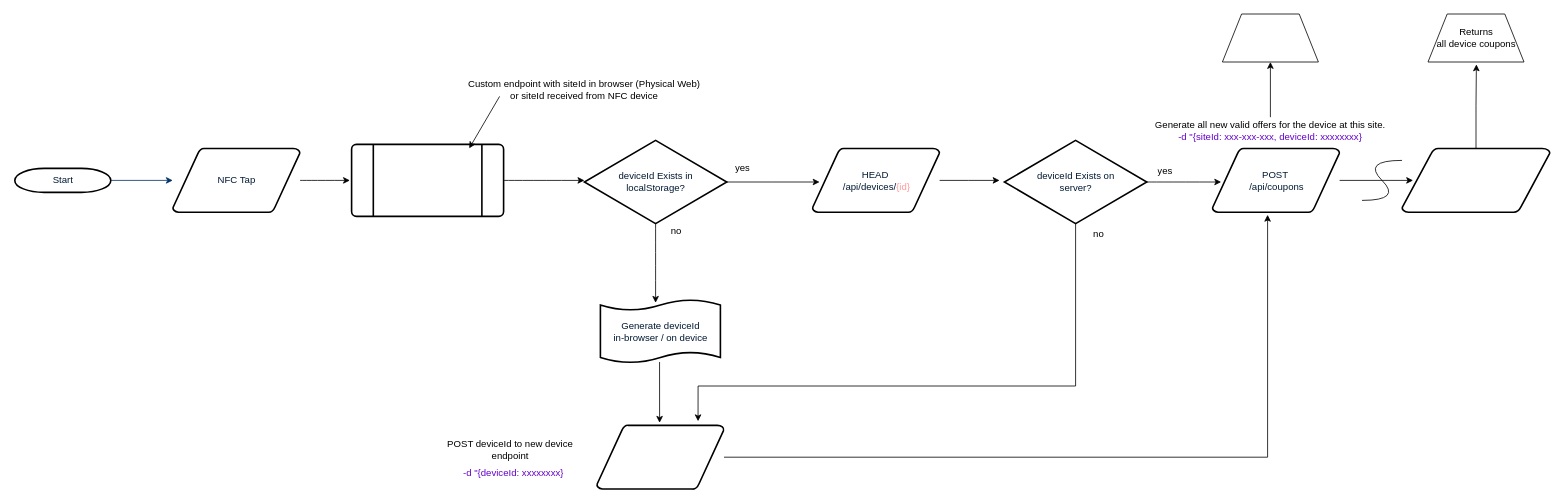
Some shapes in this 1564 by 504 pixel diagram are drawn without their labels. Each missing label, with the centre of its shape:
"dev.xerts.io/ xxx-xxx-xxx" belongs at pixel 427 180.
"GET /api/devices/{id}/coupons" belongs at pixel 1475 180.
"POST /api/devices" belongs at pixel 660 457.
"Returns all new coupons" belongs at pixel 1270 37.
